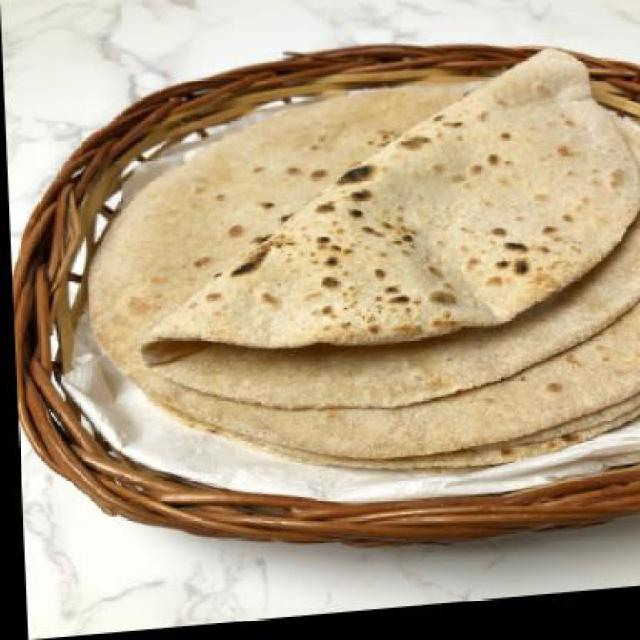chapati: (79, 52, 638, 503)
